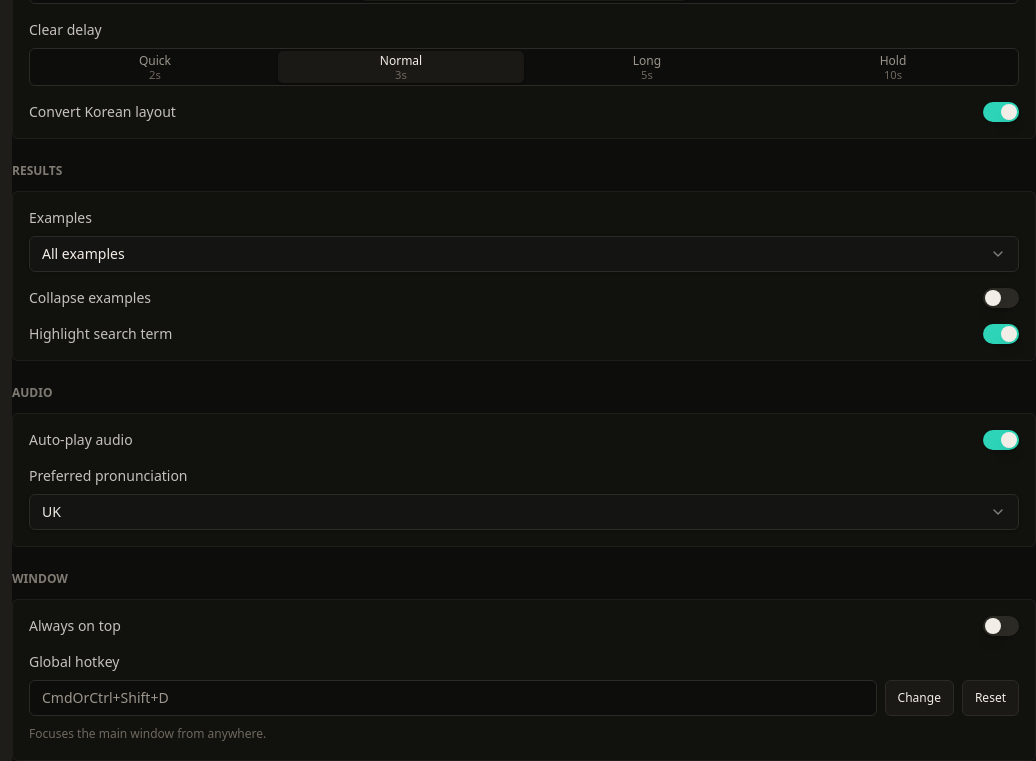
SettingsSections › cancels recording when focus leaves the hotkey recorder
This screenshot has width=1036, height=761.
(page scrolled)
Click the button with aria-label "Change shortcut" at (919, 698), box [885, 680, 954, 716]
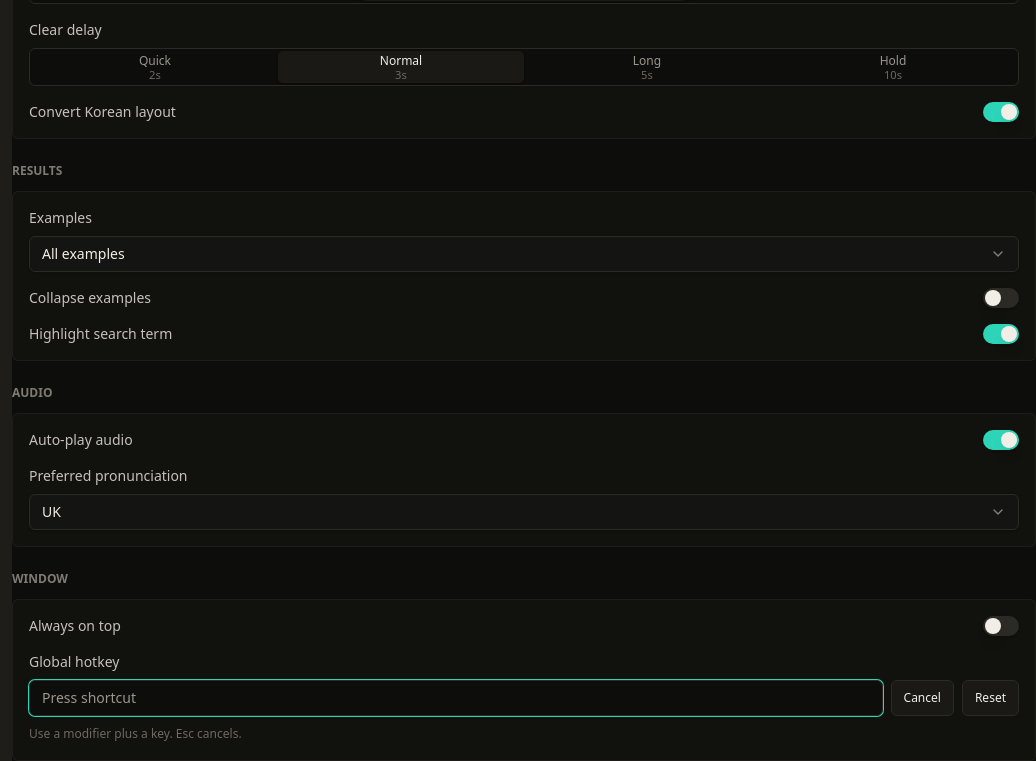
Check: the button with test id "hotkey-recorder" reads "Press shortcut"
Leave the button with test id "hotkey-recorder", box [29, 680, 882, 716]
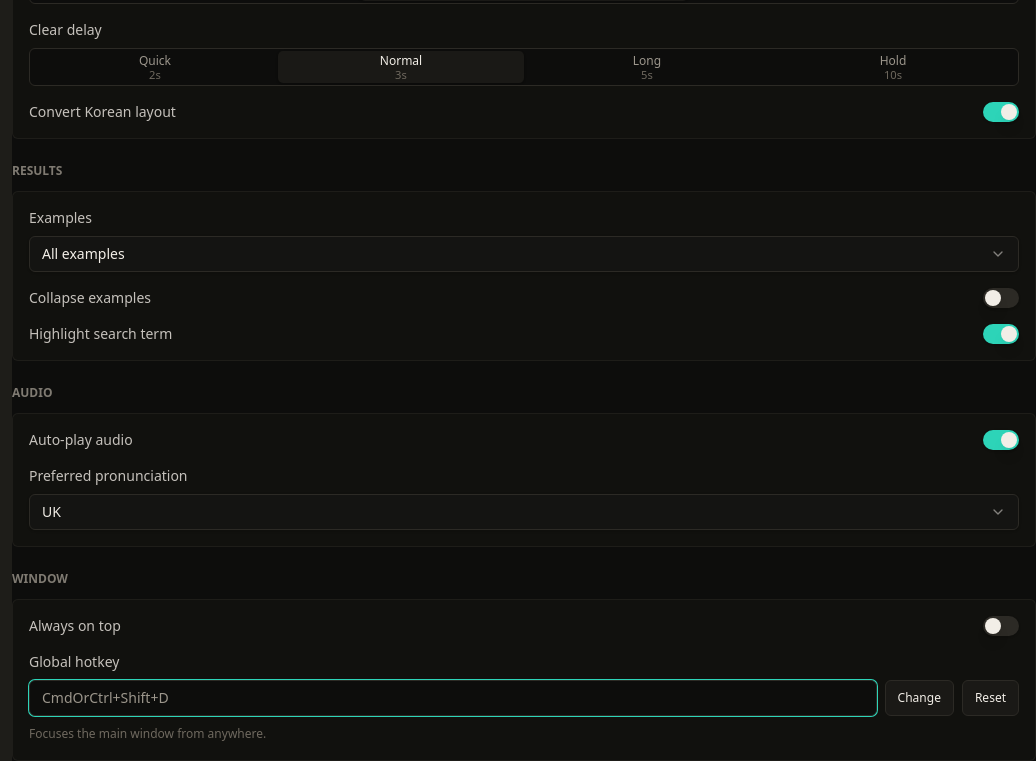
Check: the button with test id "hotkey-recorder" reads "CmdOrCtrl+Shift+D", box [29, 680, 877, 716]
